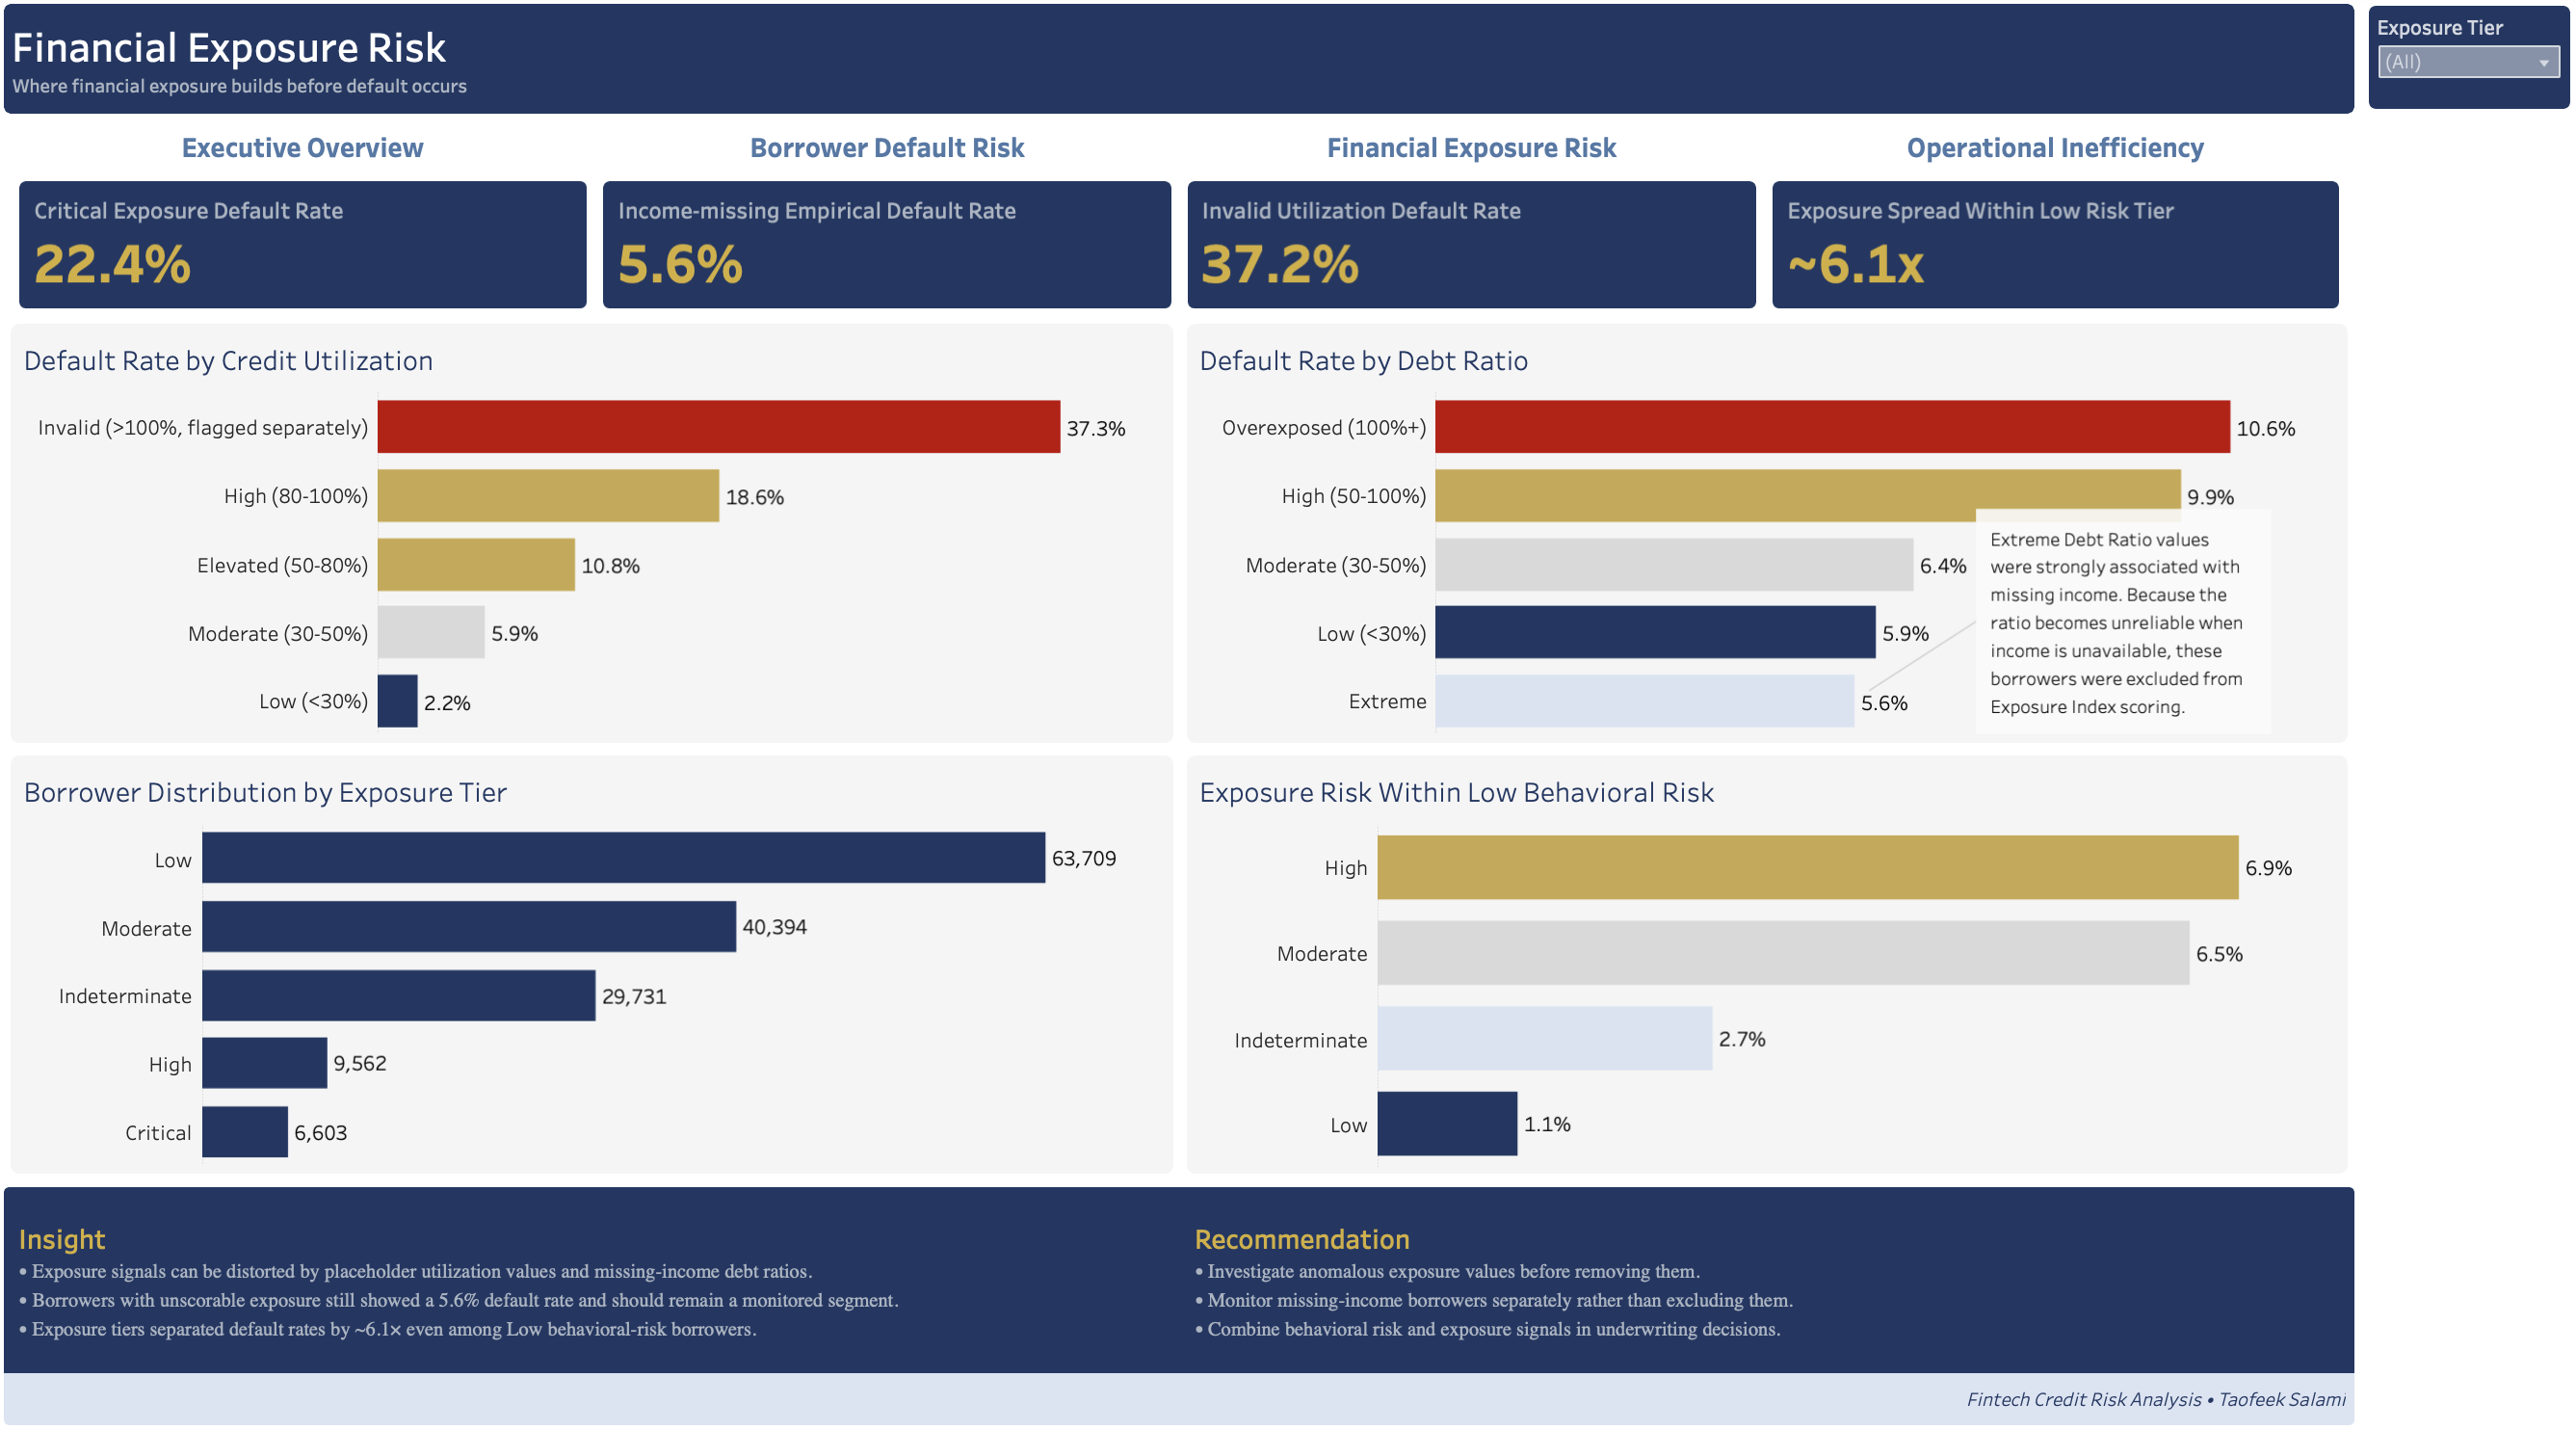

What the dashboard file says about the page in this screenshot:
{"tool":"tableau","page":{"name":"DB03 - Financial Exposure Risk","canvas":[1600,900],"ordinal":2},"visuals":[{"type":"filter","title":"09 - KPI - Critical Exposure Default Rate","param":"[federated.0l6wklt0usoimd1as64wt0mplcod].[none:exposure_tier:nk]","box":[1455,12,133,73]},{"type":"text","box":[16,16,1435,67]},{"type":"dashboard-object","box":[20,87,357,32]},{"type":"dashboard-object","box":[377,87,357,32]},{"type":"dashboard-object","box":[734,87,357,32]},{"type":"dashboard-object","box":[1091,87,356,32]},{"type":"worksheet","title":"09 - KPI - Critical Exposure Default Rate","mark":"Automatic","box":[20,119,357,88]},{"type":"worksheet","title":"10 - KPI - Income-missing Empirical Rate","mark":"Automatic","box":[377,119,357,88]},{"type":"worksheet","title":"11 - KPI - Invalid Utilization Default Rate","mark":"Automatic","box":[734,119,357,88]},{"type":"worksheet","title":"12 - KPI - Exposure Spread Within Low Risk Tier","mark":"Automatic","box":[1091,119,356,88]},{"type":"worksheet","title":"27 - Chart - Utilization Bands Default Rate","mark":"Automatic","rows":["utilization_band"],"cols":["delinquency_rate_pct"],"box":[16,207,718,264]},{"type":"worksheet","title":"28 - Chart - Debt Ratio Bands Default Rate","mark":"Automatic","rows":["debt_ratio_band"],"cols":["delinquency_rate_pct"],"box":[734,207,717,264]},{"type":"worksheet","title":"29 - Chart - Exposure Tier Distribution","mark":"Automatic","rows":["exposure_tier"],"cols":["vtsum"],"box":[16,471,718,263]},{"type":"worksheet","title":"30 - Chart - Low Risk Tier, Exposure Comparison","mark":"Automatic","rows":["exposure_tier"],"cols":["SeriousDlqin2yrs"],"box":[734,471,717,263]},{"type":"text","box":[16,738,718,114]},{"type":"text","box":[734,738,717,114]},{"type":"text","box":[16,852,1435,32]}]}

Visuals, with their boxes in screenshot pixels (x1, y1, x2, y2), scaled from the page's 1600x900 canvas onto the 2576x1430 screenshot:
"09 - KPI - Critical Exposure Default Rate" filter: crop(2343, 19, 2557, 135)
text: crop(26, 25, 2336, 132)
dashboard-object: crop(32, 138, 607, 189)
dashboard-object: crop(607, 138, 1182, 189)
dashboard-object: crop(1182, 138, 1756, 189)
dashboard-object: crop(1756, 138, 2329, 189)
"09 - KPI - Critical Exposure Default Rate" worksheet: crop(32, 189, 607, 329)
"10 - KPI - Income-missing Empirical Rate" worksheet: crop(607, 189, 1182, 329)
"11 - KPI - Invalid Utilization Default Rate" worksheet: crop(1182, 189, 1756, 329)
"12 - KPI - Exposure Spread Within Low Risk Tier" worksheet: crop(1756, 189, 2329, 329)
"27 - Chart - Utilization Bands Default Rate" worksheet: crop(26, 329, 1182, 749)
"28 - Chart - Debt Ratio Bands Default Rate" worksheet: crop(1182, 329, 2336, 749)
"29 - Chart - Exposure Tier Distribution" worksheet: crop(26, 749, 1182, 1166)
"30 - Chart - Low Risk Tier, Exposure Comparison" worksheet: crop(1182, 749, 2336, 1166)
text: crop(26, 1173, 1182, 1354)
text: crop(1182, 1173, 2336, 1354)
text: crop(26, 1354, 2336, 1405)
